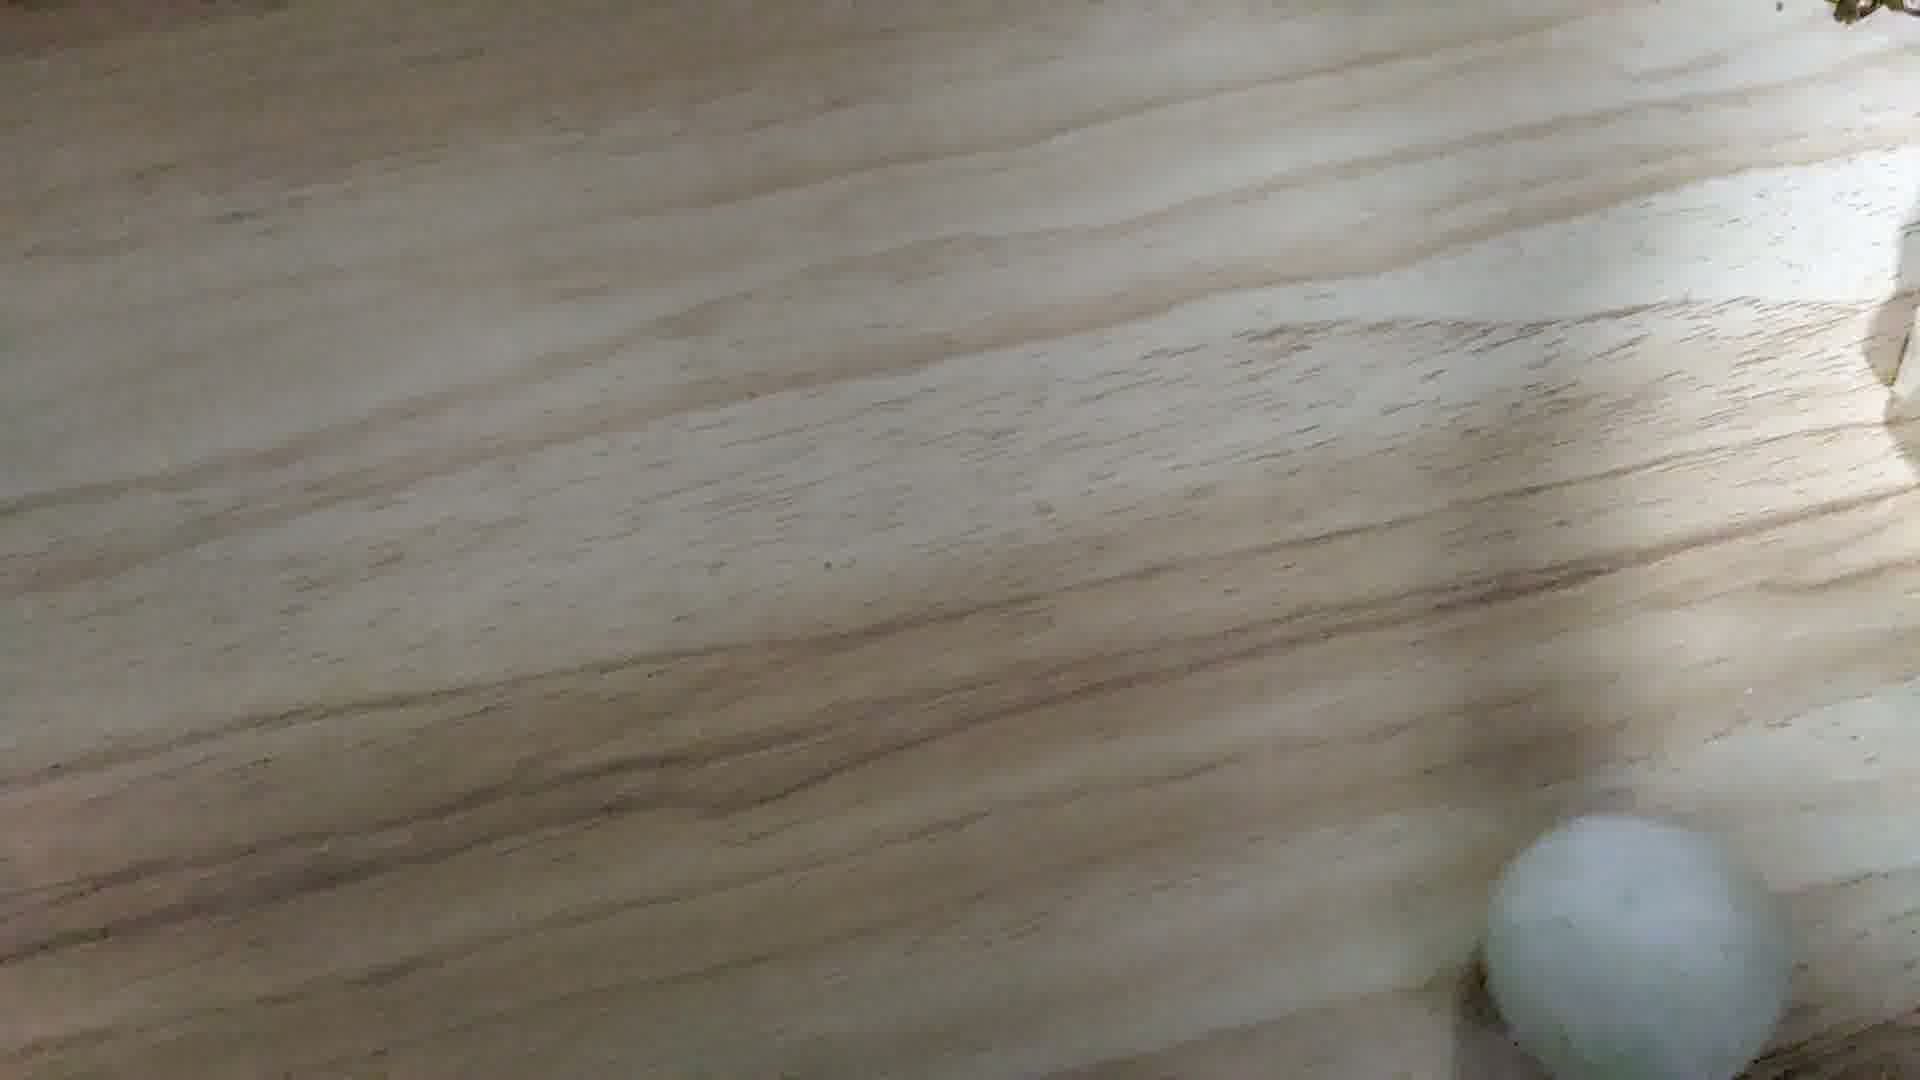Ball: (1487, 811, 1788, 1080)
